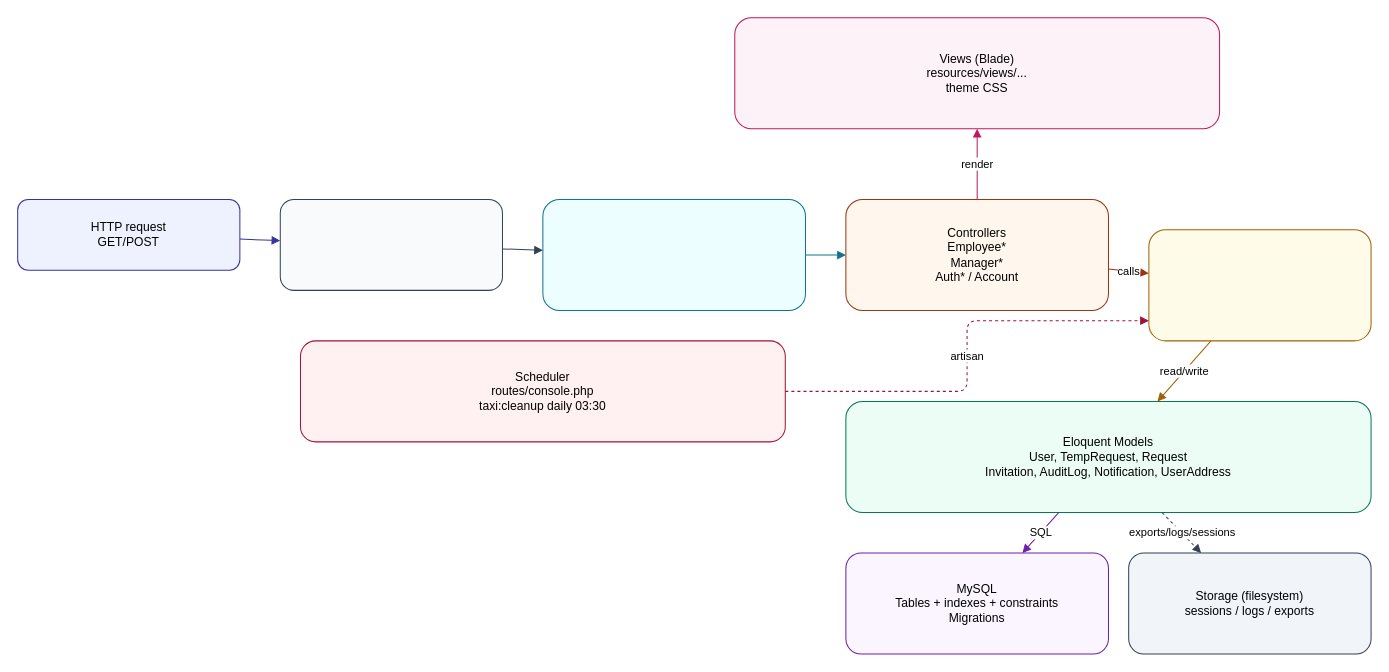
Some shapes in this 1389 by 672 pixel diagram are drawn without their labels. The centre of each missing label's shape, as x and y in pixels:
Middleware resolve.actor role (EnsureUserHasRole) CSRF/session/auth: the point at 673,254
Routes routes/web.php routes/api.php: the point at 390,244
Service layer RequestWorkflowService AuditLogger: the point at 1259,285
